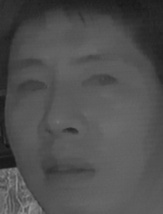eye: (81, 70, 121, 92), (14, 77, 49, 95)
mouth: (37, 153, 100, 187)
